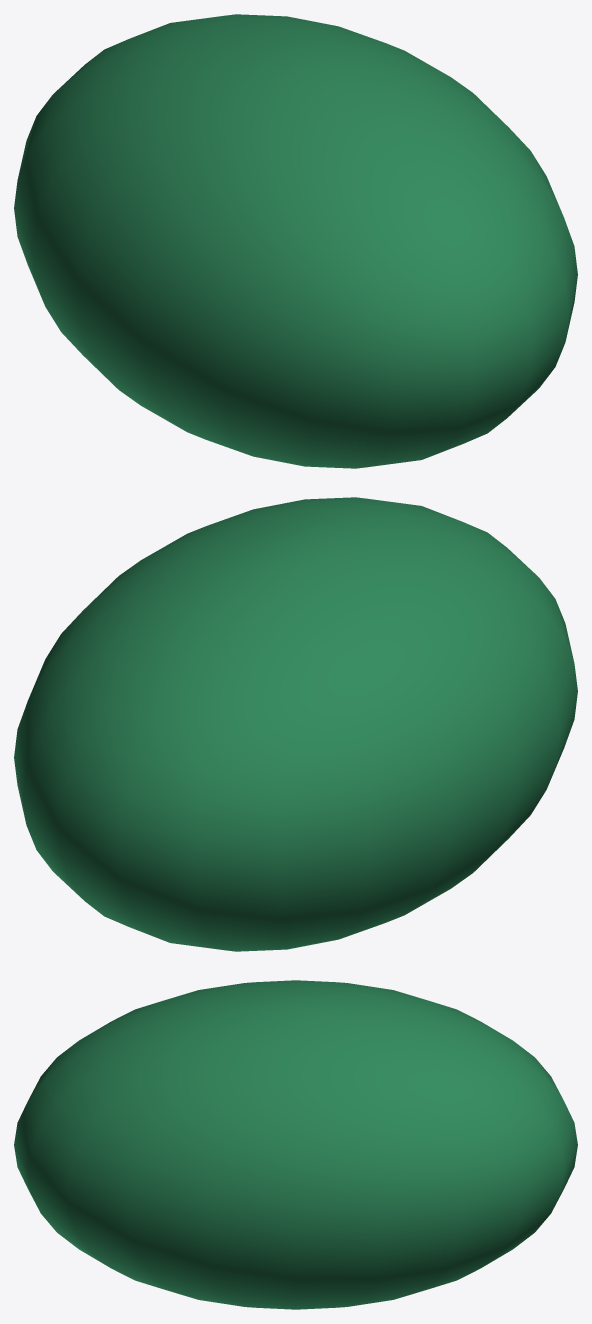
File: birdProjectile.fbx
3 renders of one model, top to bottom at view 1: azimuth 30°, elevation 25°; view 2: azimuth 150°, elevation 25°; view 3: azimuth 270°, elevation 25°, orthographic. The views are drawn at different scales.
Visible parts, largest first — view 1: pSphere1; view 2: pSphere1; view 3: pSphere1.
Boxes of the visible parts, box(x1,y1,x2,y2) form: pSphere1: box(14, 14, 577, 468); pSphere1: box(14, 497, 577, 951); pSphere1: box(14, 980, 577, 1309).
Size of the model in its own units: 0.2822 by 0.2199 by 0.3966.
